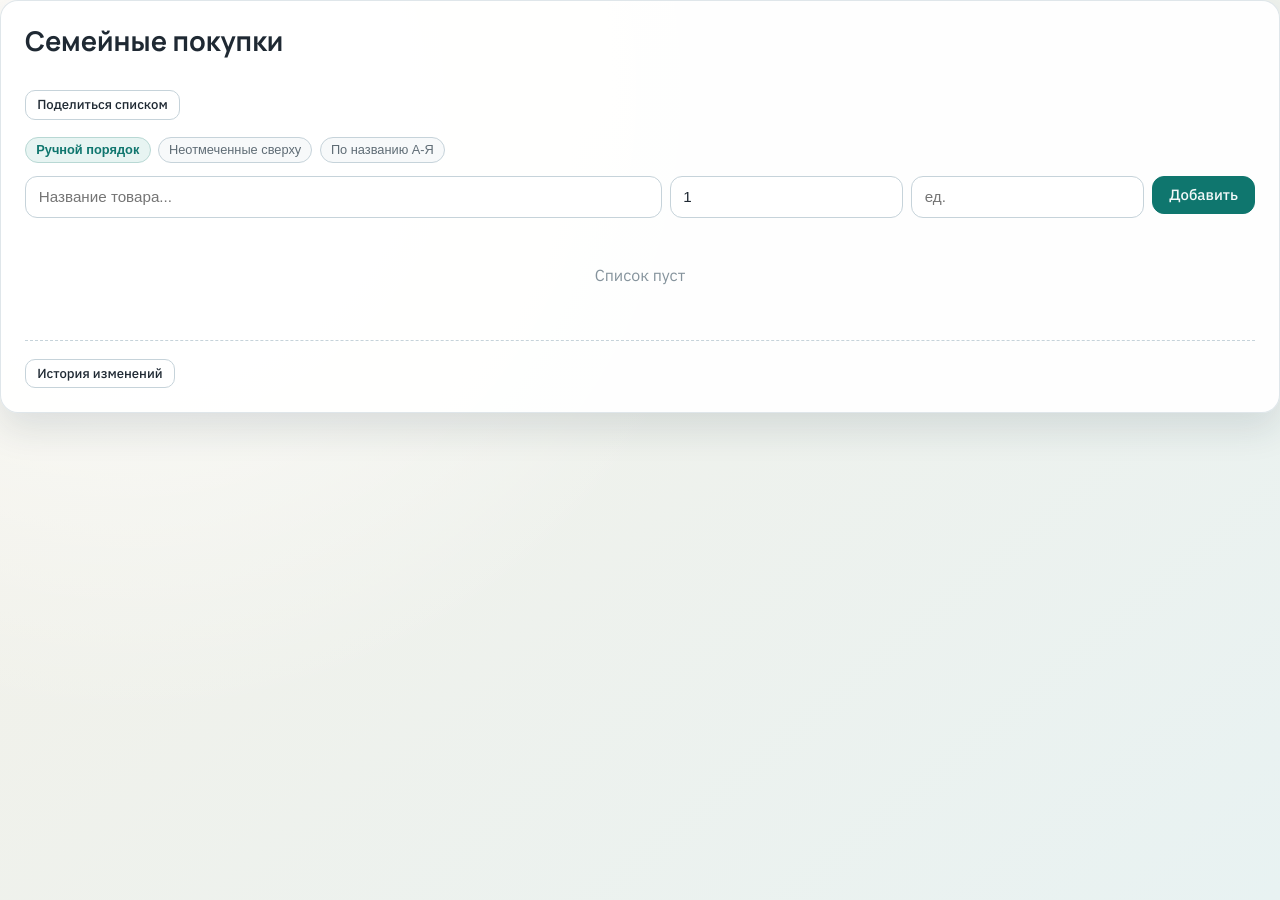
Test: ListDetailPage › adds new item from the form
Expected: the heading "Семейные покупки" is shown, [25,25,283,60]
Type "Молоко" into the field with placeholder "Название товара..." at (343, 197), box [25,176,662,218]
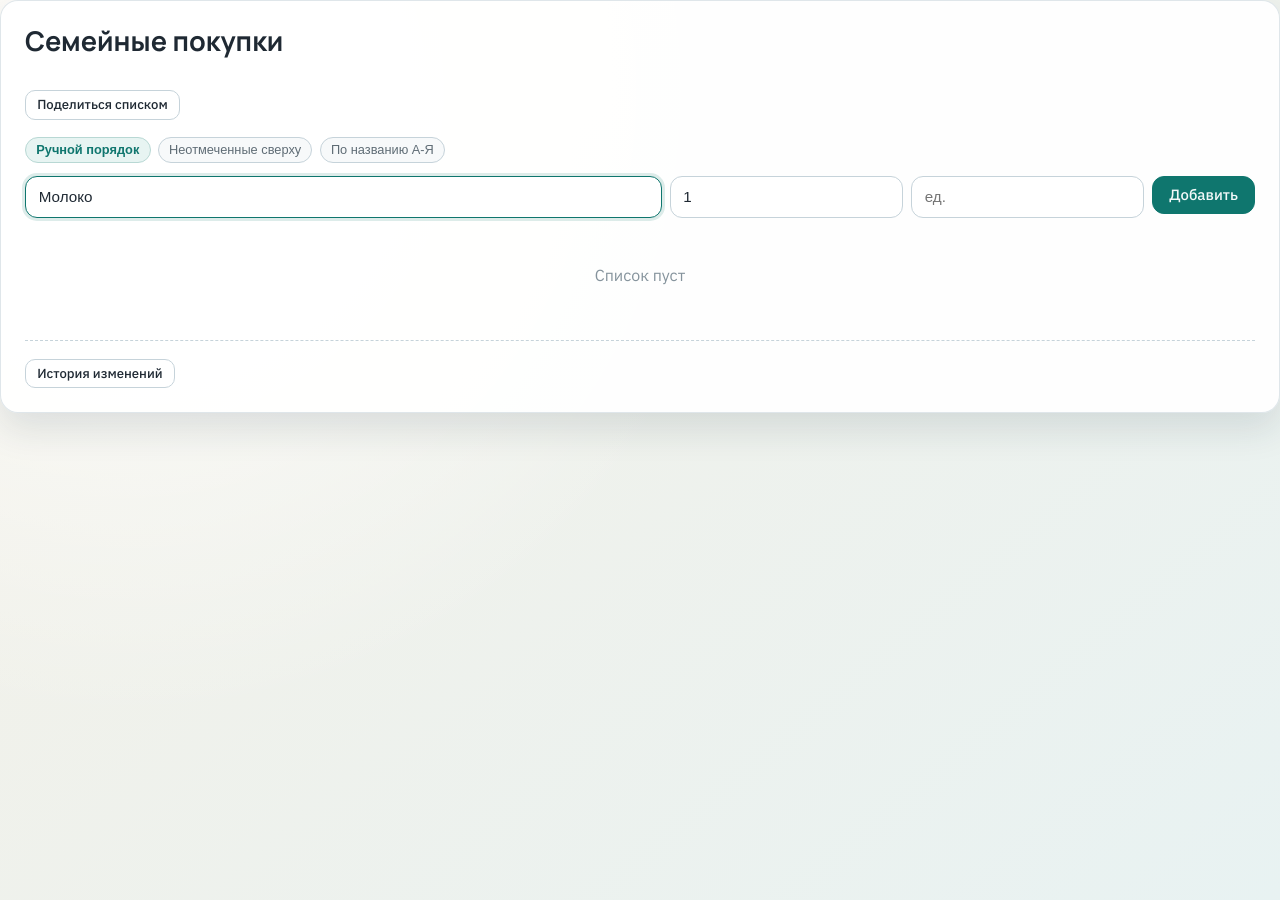
Replace the text in the number field with "2" at (786, 197), box [670,176,903,218]
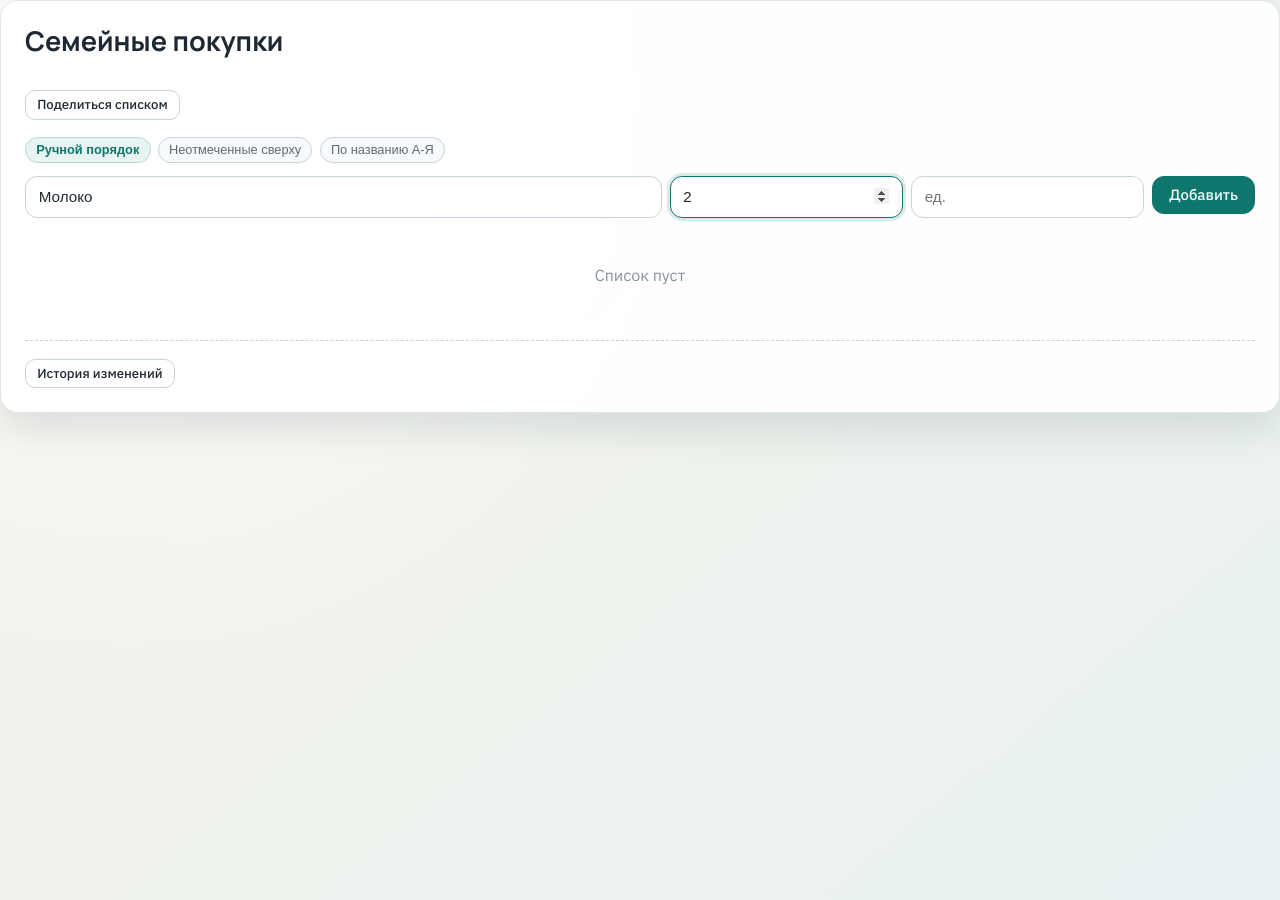
Type "л" into the field with placeholder "ед." at (1028, 197), box [911,176,1144,218]
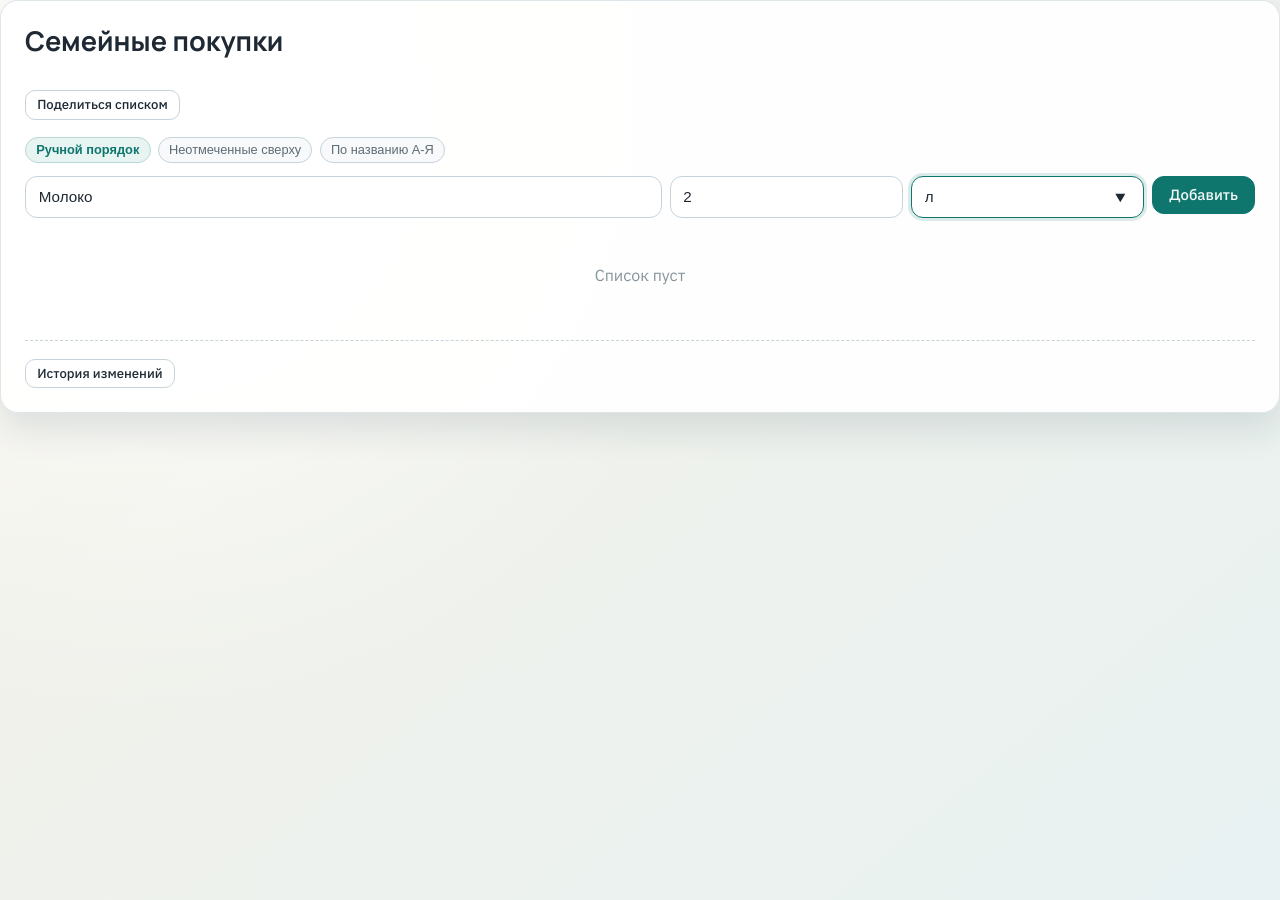
Click the button "Добавить" at (1204, 195), box [1152,176,1255,214]
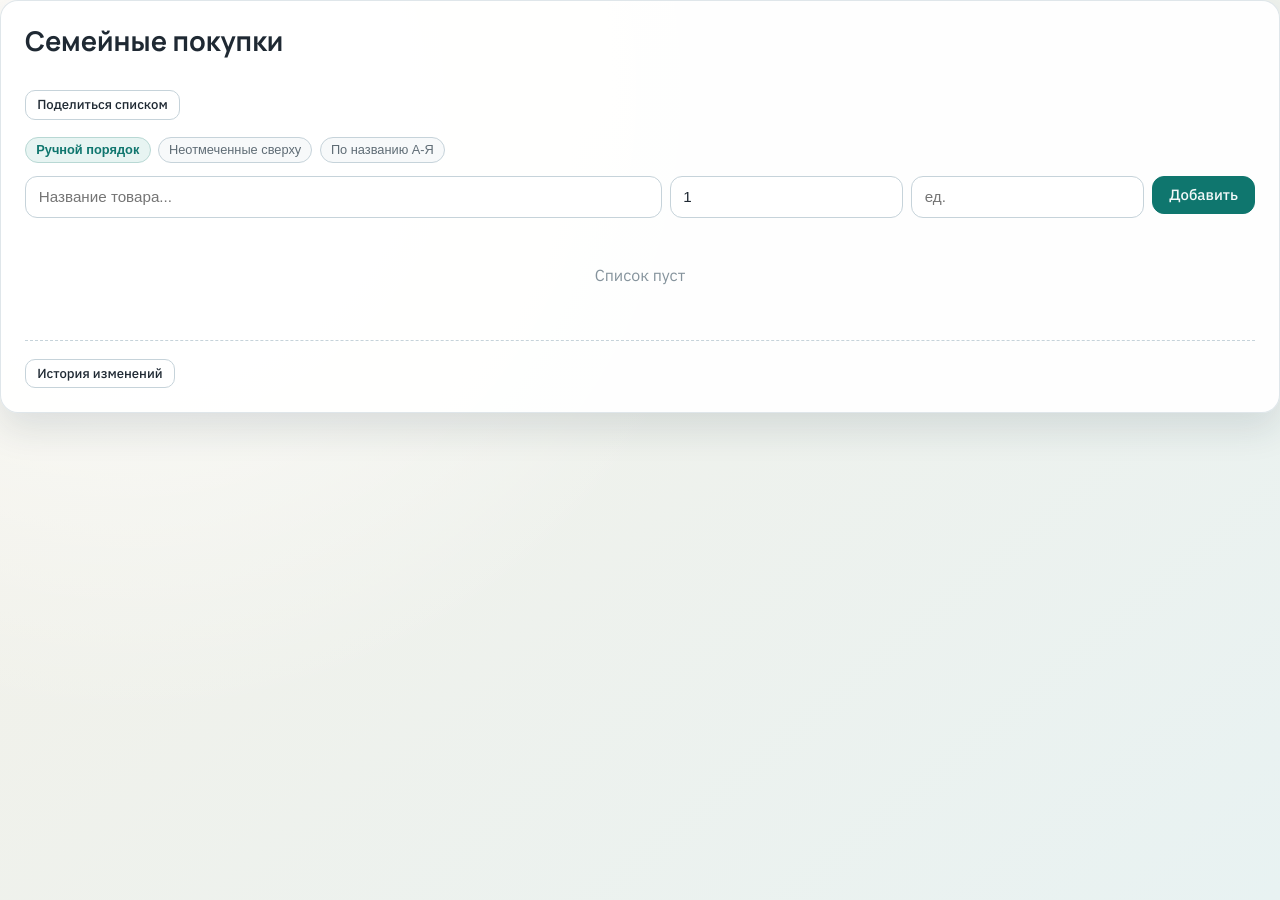
Result: the field with placeholder "Название товара..." is empty at [25,176,662,218]
Result: the number field holds "1" at [670,176,903,218]
Result: the field with placeholder "ед." is empty at [911,176,1144,218]
